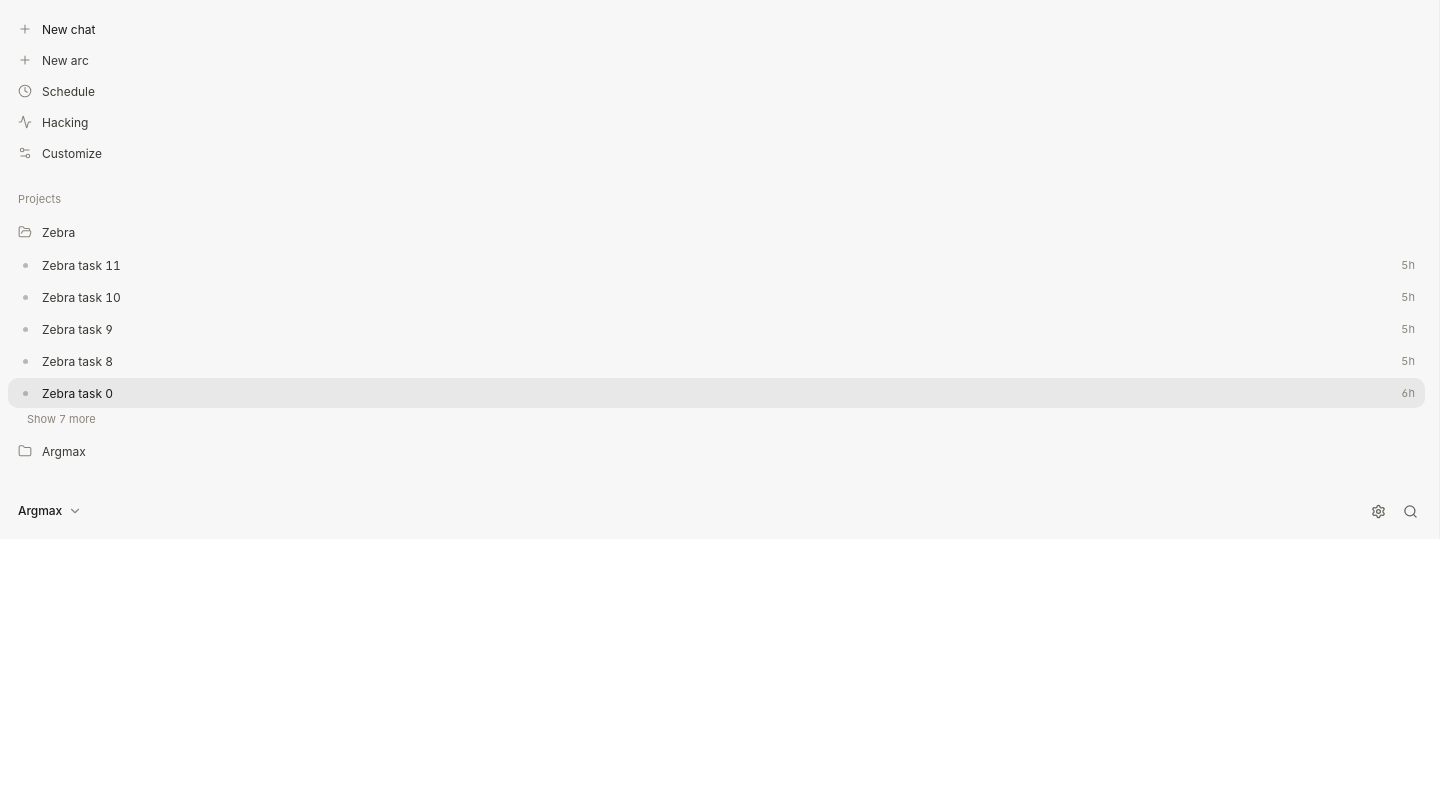
Scenario: Sidebar — date (sessions) view mode › show less returns an overflowed project to five rows when the selected session is older
Expected: the number of buttons "Zebra task 11 5h" is 5, [8, 250, 1425, 280]; [8, 282, 1425, 312]; [8, 314, 1425, 344]; [8, 346, 1425, 376]; [8, 378, 1425, 408]
Expected: the button "Zebra task 0 6h" is shown, [8, 378, 1425, 408]
Click the button with aria-label "Show 7 more Zebra chats": (61, 419) [14, 408, 1425, 432]
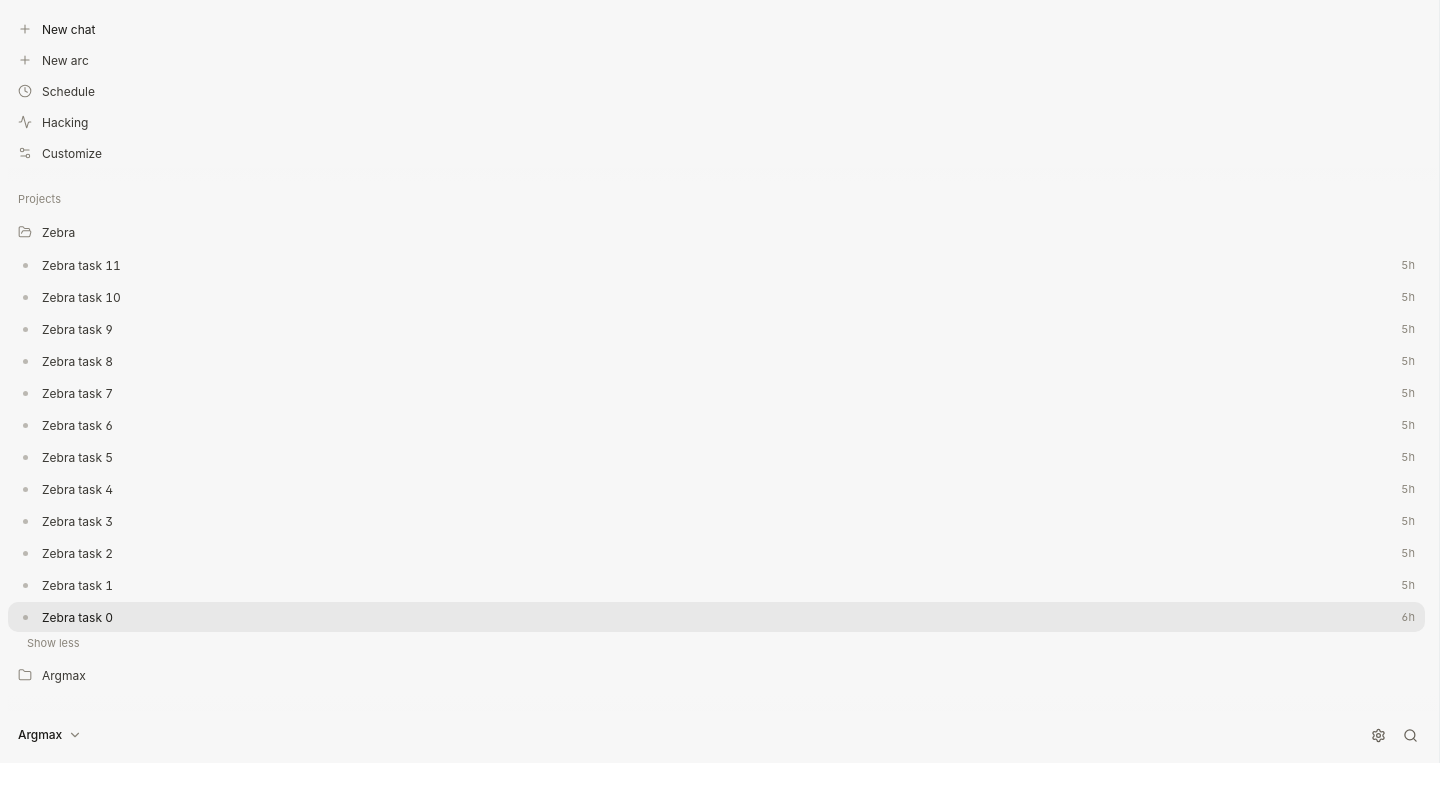
Result: the number of buttons "Zebra task 11 5h" is 12
Click the button with aria-label "Show fewer Zebra chats": (53, 643) [14, 632, 1425, 656]
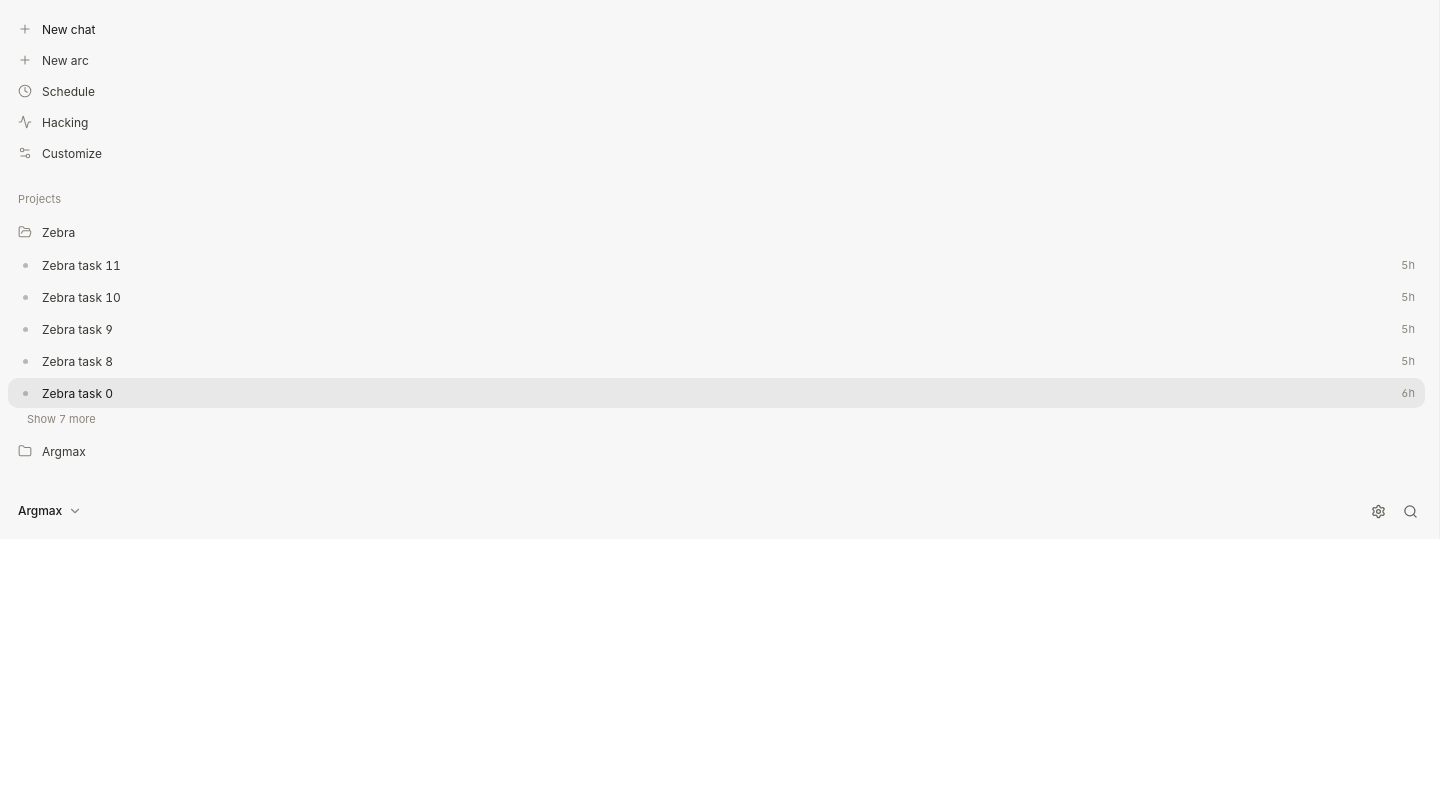
Expected: the button "Zebra task 0 6h" is shown, [8, 378, 1425, 408]
Result: the number of buttons "Zebra task 11 5h" is 5 at [8, 250, 1425, 280]; [8, 282, 1425, 312]; [8, 314, 1425, 344]; [8, 346, 1425, 376]; [8, 378, 1425, 408]
